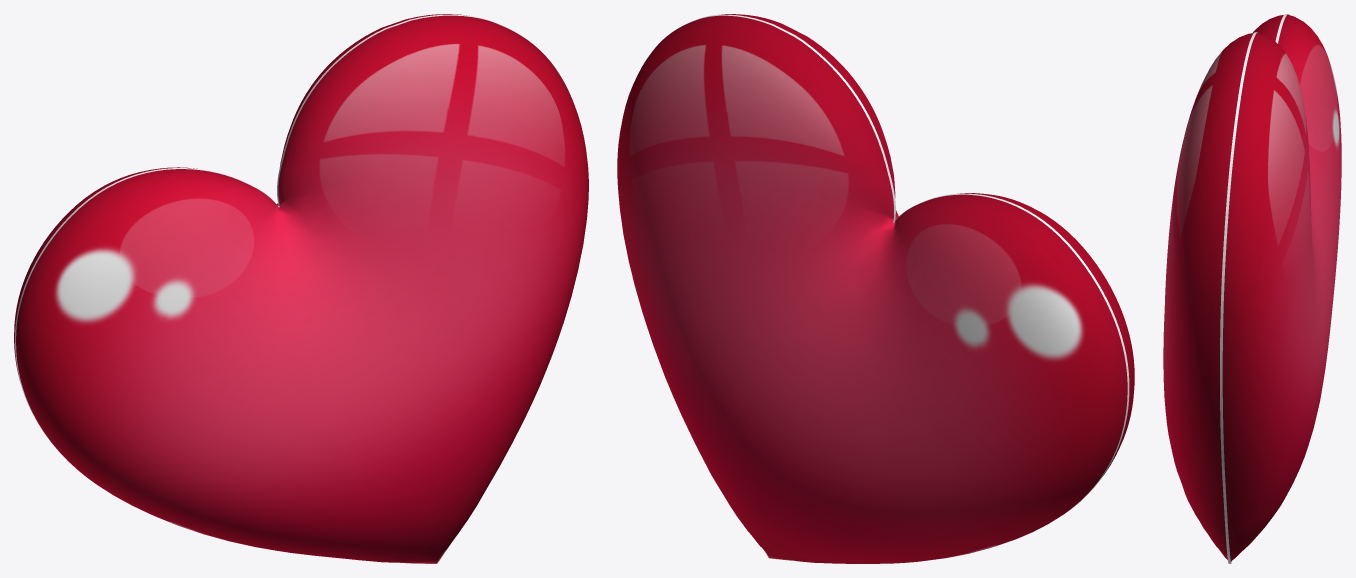
Rendered from heart.obj.
3 views of the same model, side by side, from view 1: azimuth 30°, elevation 25°; view 2: azimuth 150°, elevation 25°; view 3: azimuth 270°, elevation 25° (orthographic). The views are drawn at different scales.
Visible parts, largest first — view 1: Layer 1; view 2: Layer 1; view 3: Layer 1.
Boxes of the visible parts, bbox=[...] form: Layer 1: bbox=[14, 14, 588, 563]; Layer 1: bbox=[617, 14, 1134, 563]; Layer 1: bbox=[1163, 14, 1341, 563].
Size of the model in its own units: 111 by 107 by 33.52.
Materials: 3 (3 with a texture image).
